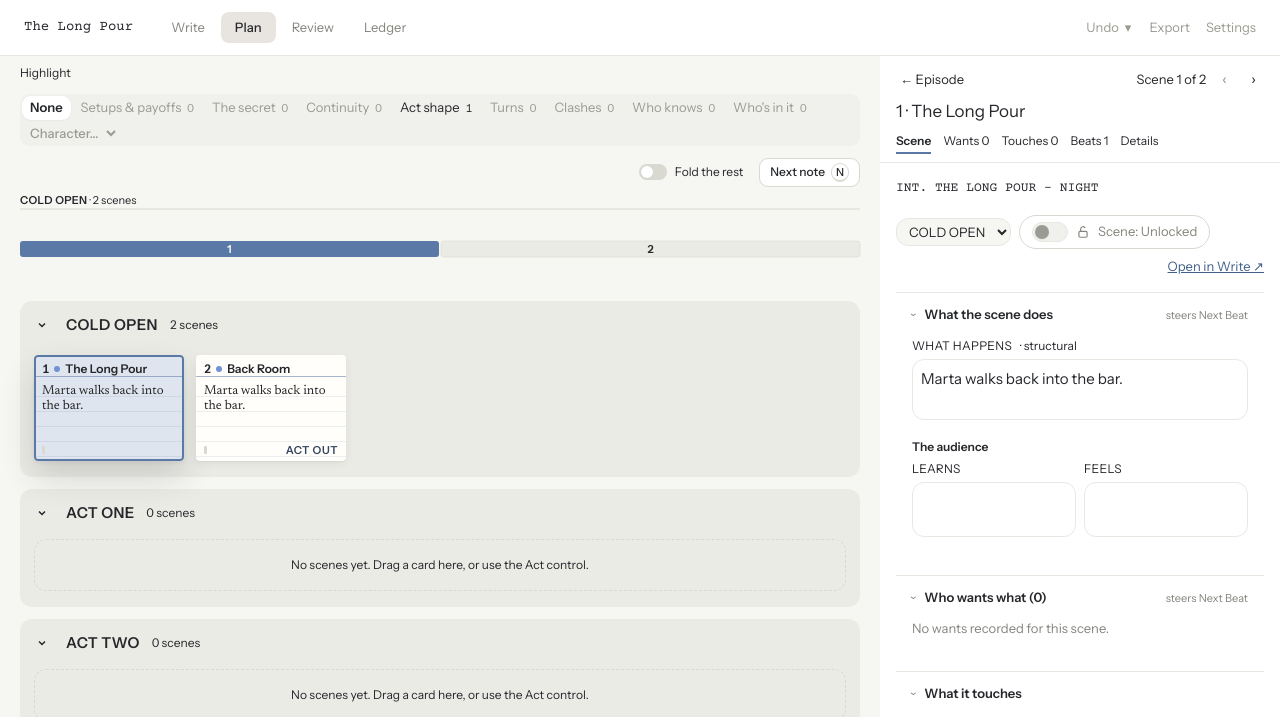
Test: PlanScreen › a failed save keeps what the writer typed (the draft survives the rollback)
The image size is (1280, 717).
Step 1. Type "She is not staying." into the text box named "Audience learns" → (994, 509), box [912,482,1076,536]
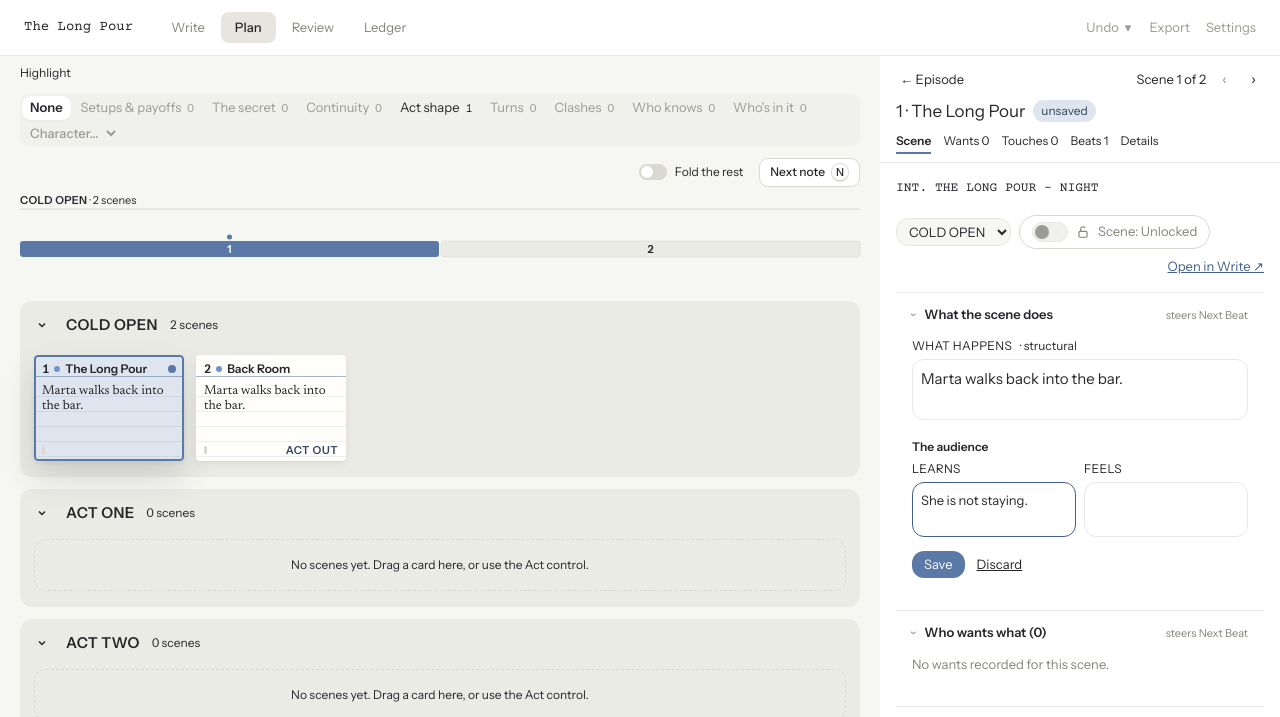
Step 2. Click the button "Save" → (938, 564), box [912,550,964,578]
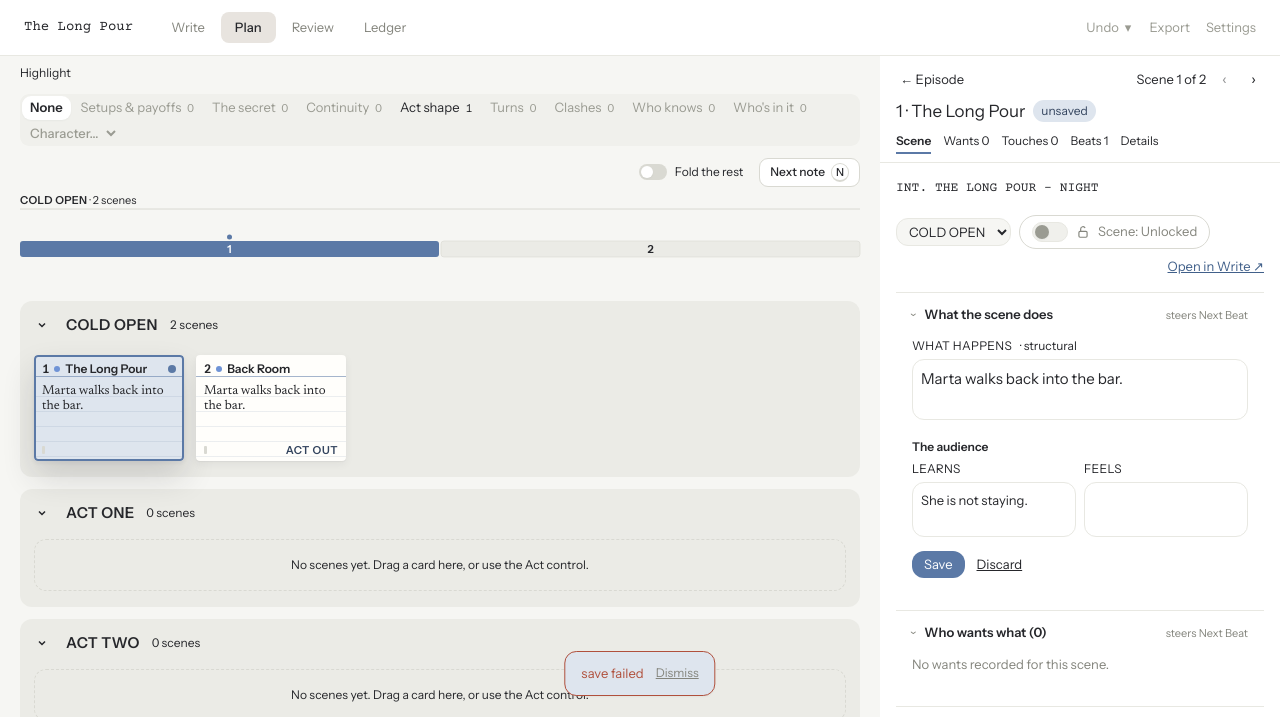
Result: the button "Save" is shown at [912,550,964,578]
Result: the text "save failed" is shown at [581,664,644,683]
